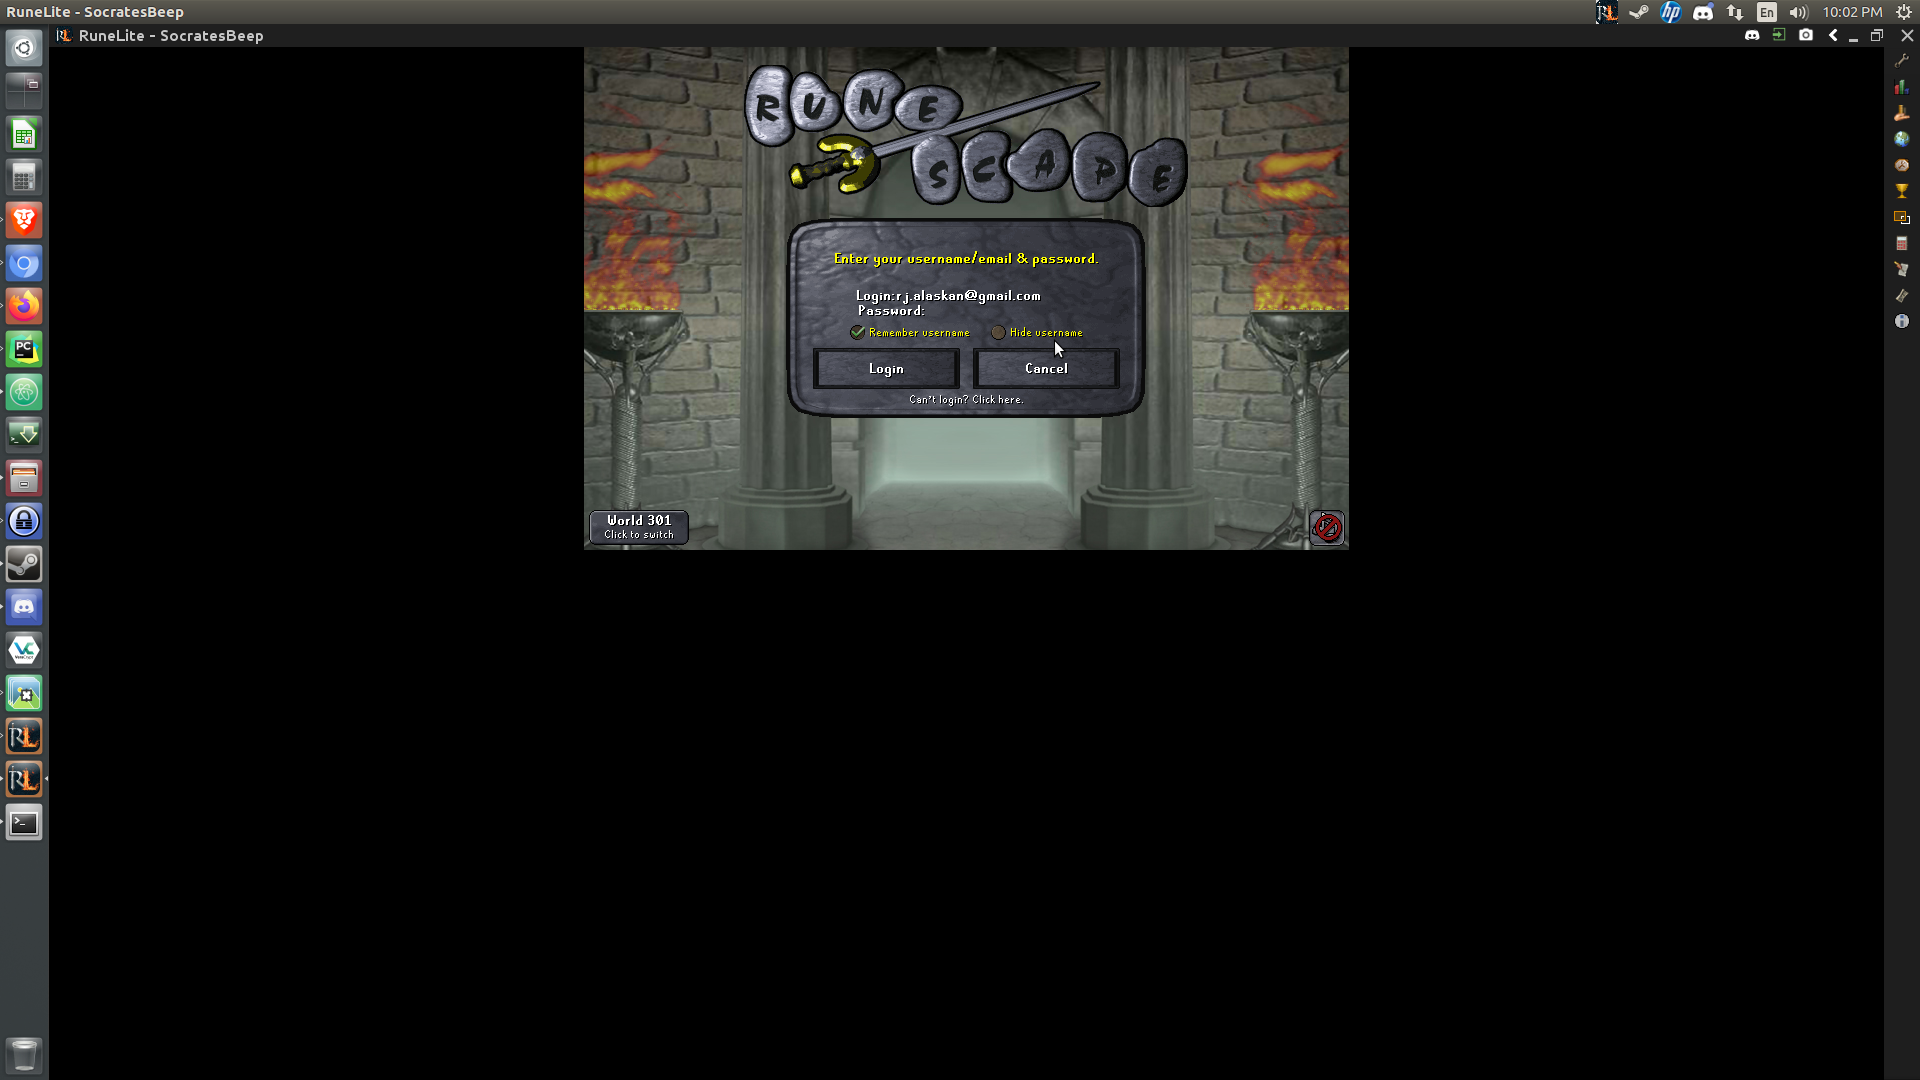cursor: (1050, 339, 1065, 357)
login_Cancel: (1021, 357, 1071, 378)
login_Login: (858, 357, 914, 377)
login_WorldSwitcher: (604, 512, 675, 541)
login_textbox_Login: (852, 287, 895, 305)
login_textbox_Password: (855, 305, 928, 318)
